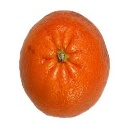orange: (18, 9, 108, 118)
